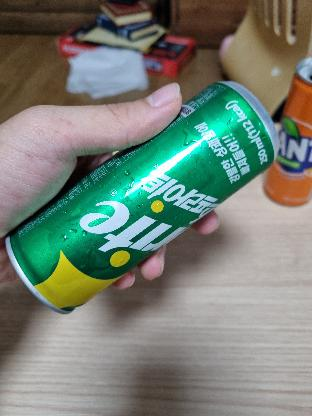Can: (4, 78, 278, 310)
